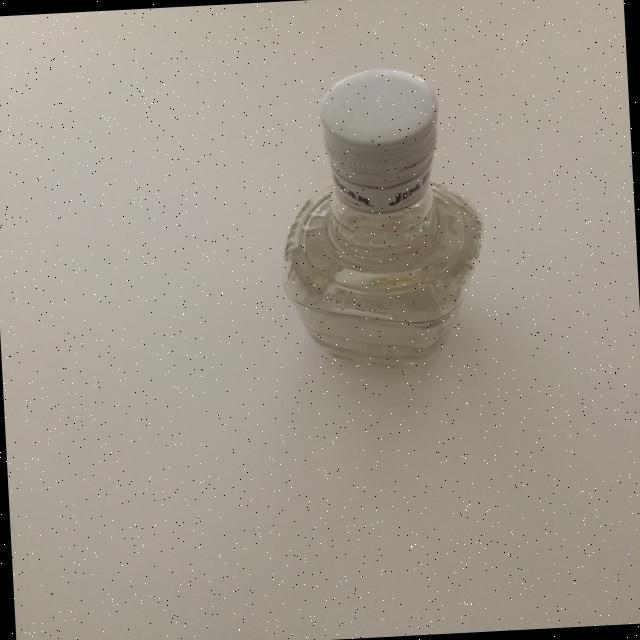glass: (270, 63, 491, 373)
